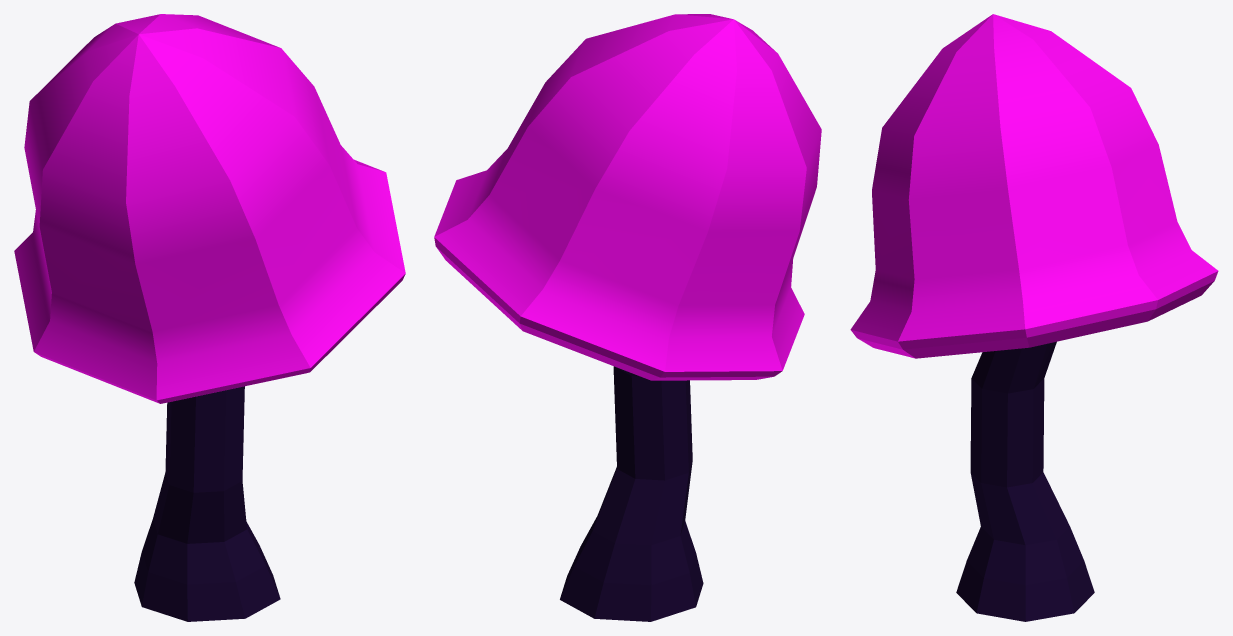
Rendered from Mushroom_3.fbx.
3 renders of one model, left to right at view 1: azimuth 30°, elevation 25°; view 2: azimuth 150°, elevation 25°; view 3: azimuth 270°, elevation 25°, orthographic. The views are drawn at different scales.
Parts seen in each view (by area): view 1: Mushroom_3; view 2: Mushroom_3; view 3: Mushroom_3.
Boxes of the visible parts, x1,y1,x2,y2 form: Mushroom_3: (14,14,405,621); Mushroom_3: (434,14,821,621); Mushroom_3: (850,14,1218,621).
Size of the model in its own units: 32.61 by 52.58 by 32.48.
